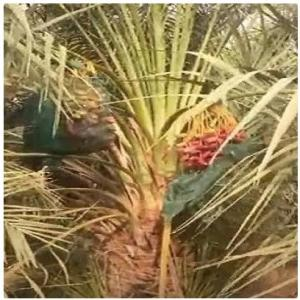palm tree: (4, 3, 297, 298)
